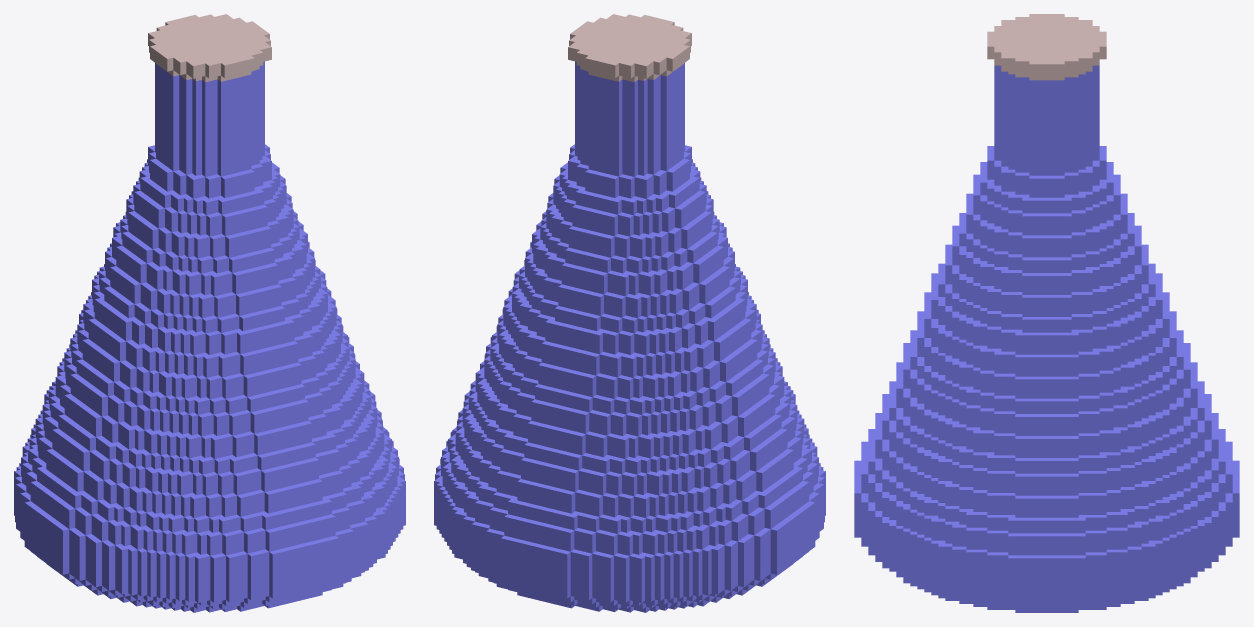
Rendered from Flask3-2-1.fbx.
The picture shows the model from 3 angles, left to right: view 1: azimuth 30°, elevation 25°; view 2: azimuth 150°, elevation 25°; view 3: azimuth 270°, elevation 25°; orthographic projection.
Parts seen in each view (by area): view 1: Flask3-2-1.001, Flask3-2-1; view 2: Flask3-2-1.001, Flask3-2-1; view 3: Flask3-2-1.001, Flask3-2-1.
Boxes of the visible parts, x1,y1,x2,y2 form: Flask3-2-1.001: (14, 61, 405, 612); Flask3-2-1: (148, 14, 271, 82); Flask3-2-1.001: (434, 61, 825, 612); Flask3-2-1: (568, 14, 691, 82); Flask3-2-1.001: (854, 65, 1239, 612); Flask3-2-1: (987, 14, 1106, 80).
Size of the model in its own units: 5.5 by 7.9 by 5.5.
